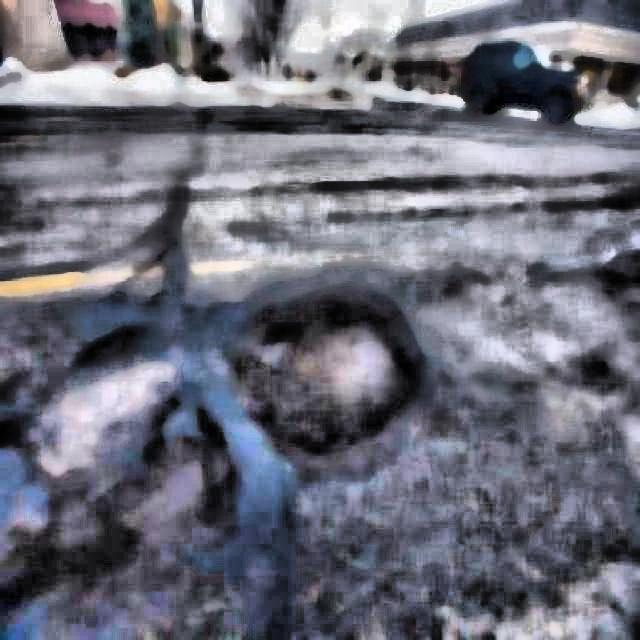buraco: (233, 286, 439, 468), (20, 330, 176, 468), (132, 416, 245, 556)
